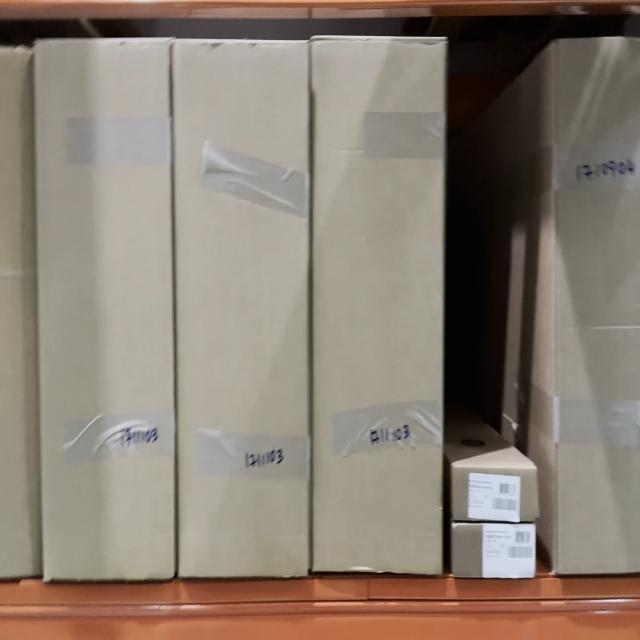box: (42, 40, 172, 577), (179, 41, 309, 576), (312, 41, 442, 572), (452, 468, 536, 520), (454, 526, 536, 576)
